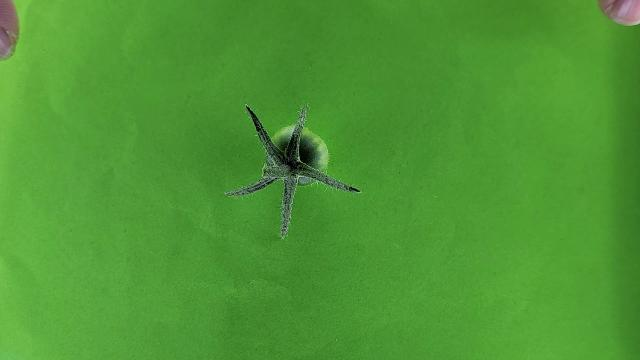Fruit Maturation: (268, 123, 331, 184)
